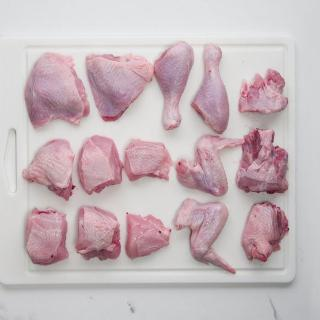Ayam: (23, 50, 95, 134), (86, 52, 157, 125), (174, 198, 238, 277), (175, 134, 248, 200), (190, 42, 234, 136), (154, 40, 197, 134), (21, 137, 80, 205), (236, 128, 292, 196), (242, 201, 292, 264), (78, 135, 128, 197), (26, 205, 72, 269), (75, 205, 124, 263), (238, 68, 291, 117), (125, 212, 174, 262), (125, 138, 176, 184)
